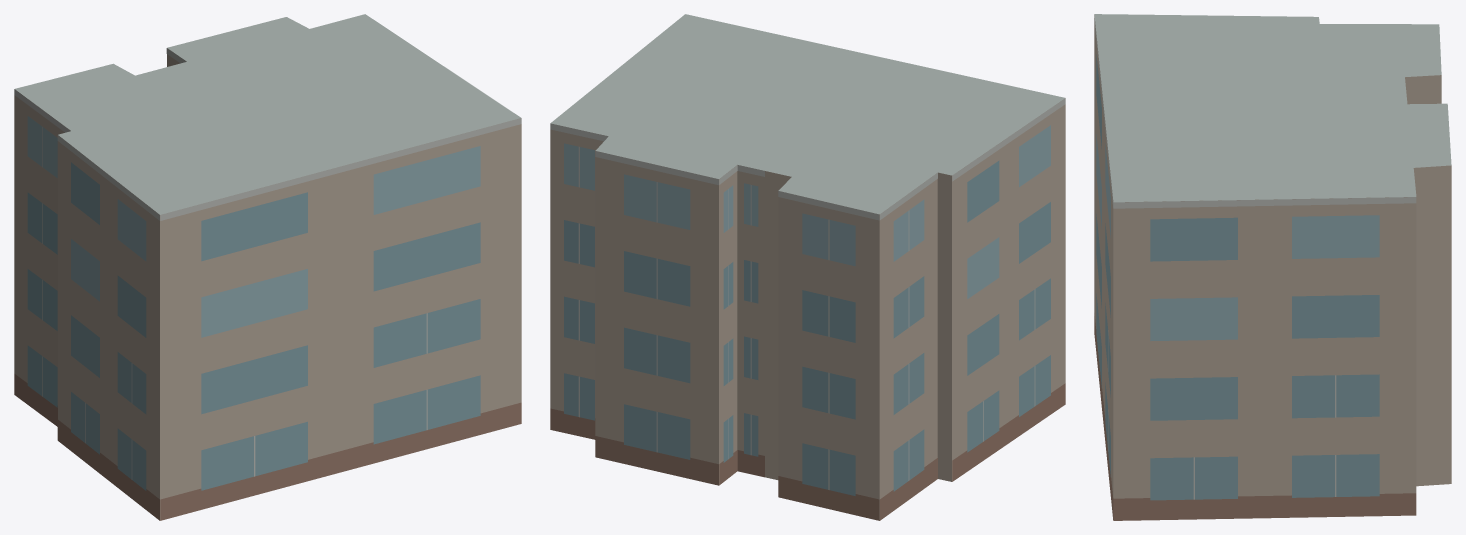
The model's file is survey-upis-32991748.glb.
The picture shows the model from 3 angles, left to right: view 1: azimuth 30°, elevation 25°; view 2: azimuth 150°, elevation 25°; view 3: azimuth 270°, elevation 25°; orthographic projection. The views are drawn at different scales.
Parts seen in each view (by area): view 1: survey-upis-32991748.tmp; view 2: survey-upis-32991748.tmp; view 3: survey-upis-32991748.tmp.
Part boxes in pixels (bbox=[...]): survey-upis-32991748.tmp: bbox=[14, 14, 521, 520]; survey-upis-32991748.tmp: bbox=[550, 14, 1065, 520]; survey-upis-32991748.tmp: bbox=[1094, 14, 1451, 520].
Size of the model in its own units: 15.48 by 12.2 by 12.41.
